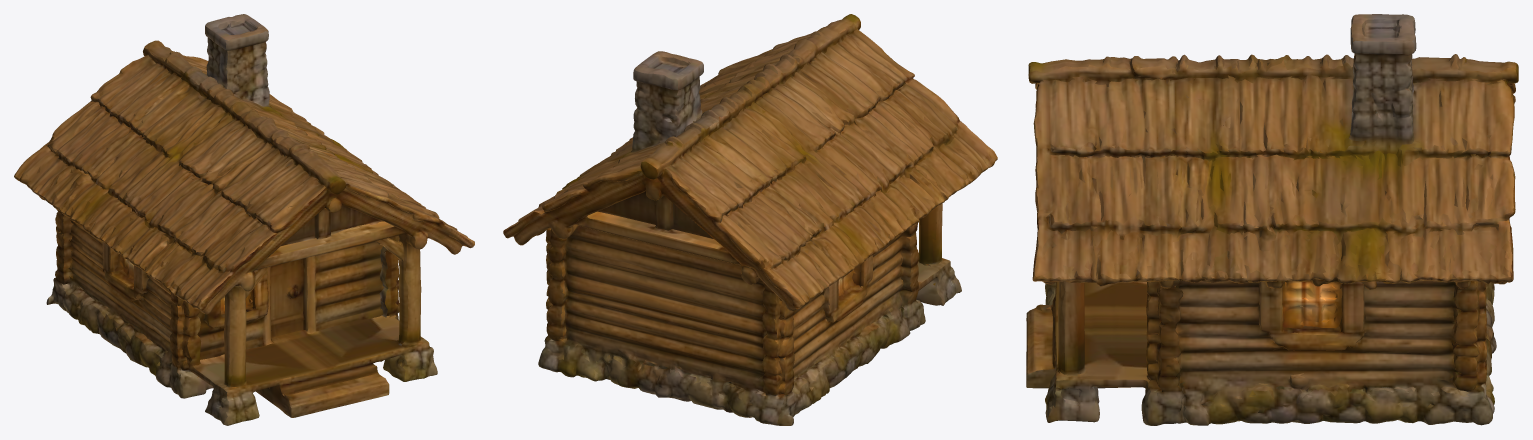
File: timber-cabin.web.glb
3 views of the same model, side by side, from view 1: azimuth 30°, elevation 25°; view 2: azimuth 150°, elevation 25°; view 3: azimuth 270°, elevation 25° (orthographic). The views are drawn at different scales.
Parts seen in each view (by area): view 1: painted; view 2: painted; view 3: painted.
Boxes of the visible parts, x1=… form: painted: x1=14, y1=14, x2=474, y2=425; painted: x1=503, y1=14, x2=997, y2=425; painted: x1=1026, y1=14, x2=1518, y2=425.
Bounding box in the file's own units: 1.69 × 1.59 × 1.99.
Materials: 1 (1 with a texture image).
